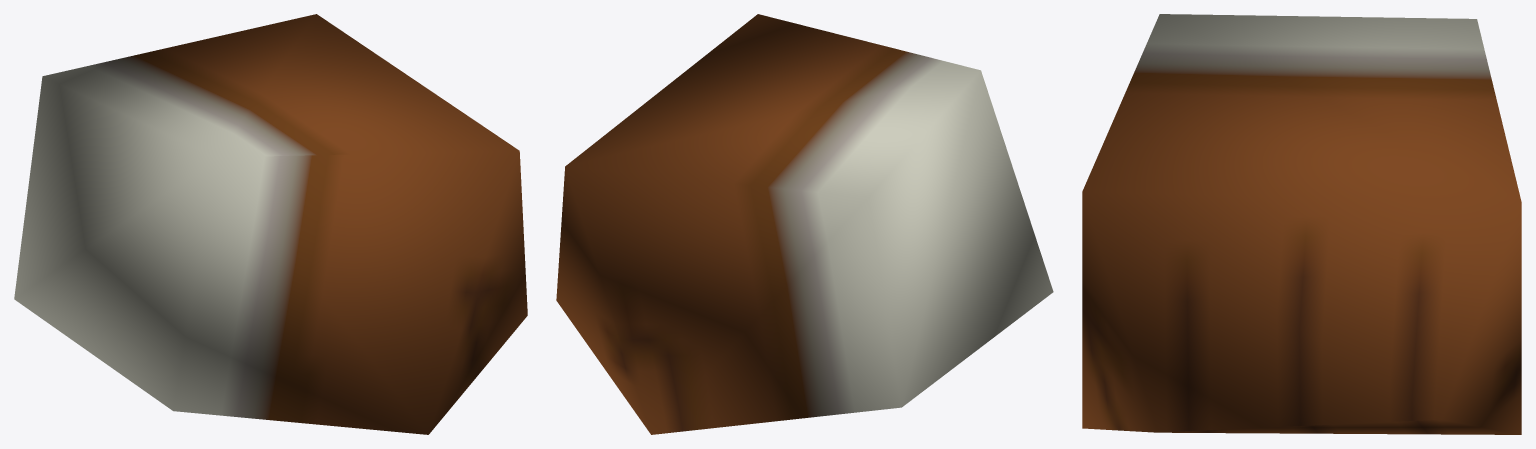
Rendered from Roll_LeftHand.obj.
3 views of the same model, side by side, from view 1: azimuth 30°, elevation 25°; view 2: azimuth 150°, elevation 25°; view 3: azimuth 270°, elevation 25° (orthographic). The views are drawn at different scales.
Parts seen in each view (by area): view 1: LeftHand_Arms.002; view 2: LeftHand_Arms.002; view 3: LeftHand_Arms.002.
Part boxes in pixels (x1,y1,x2,y2): LeftHand_Arms.002: (14,14,527,434); LeftHand_Arms.002: (556,14,1053,434); LeftHand_Arms.002: (1082,14,1521,434).
Size of the model in its own units: 0.6862 by 0.5297 by 0.6447.
1 material, 1 textured.
